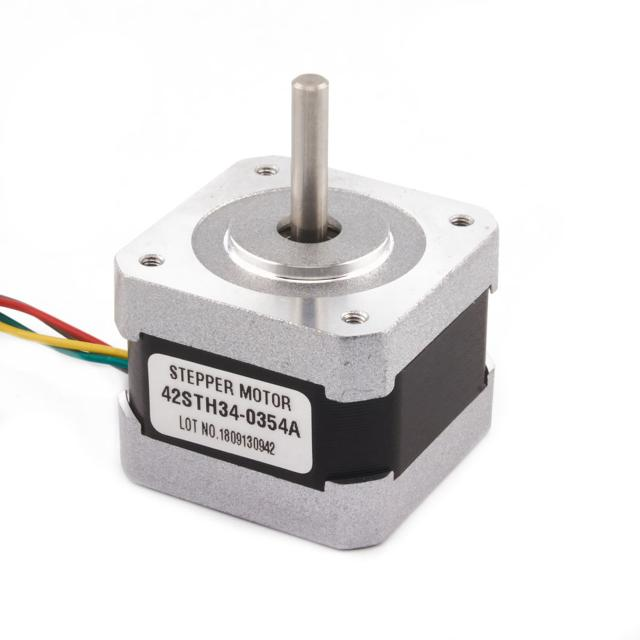motor: (114, 29, 523, 562)
